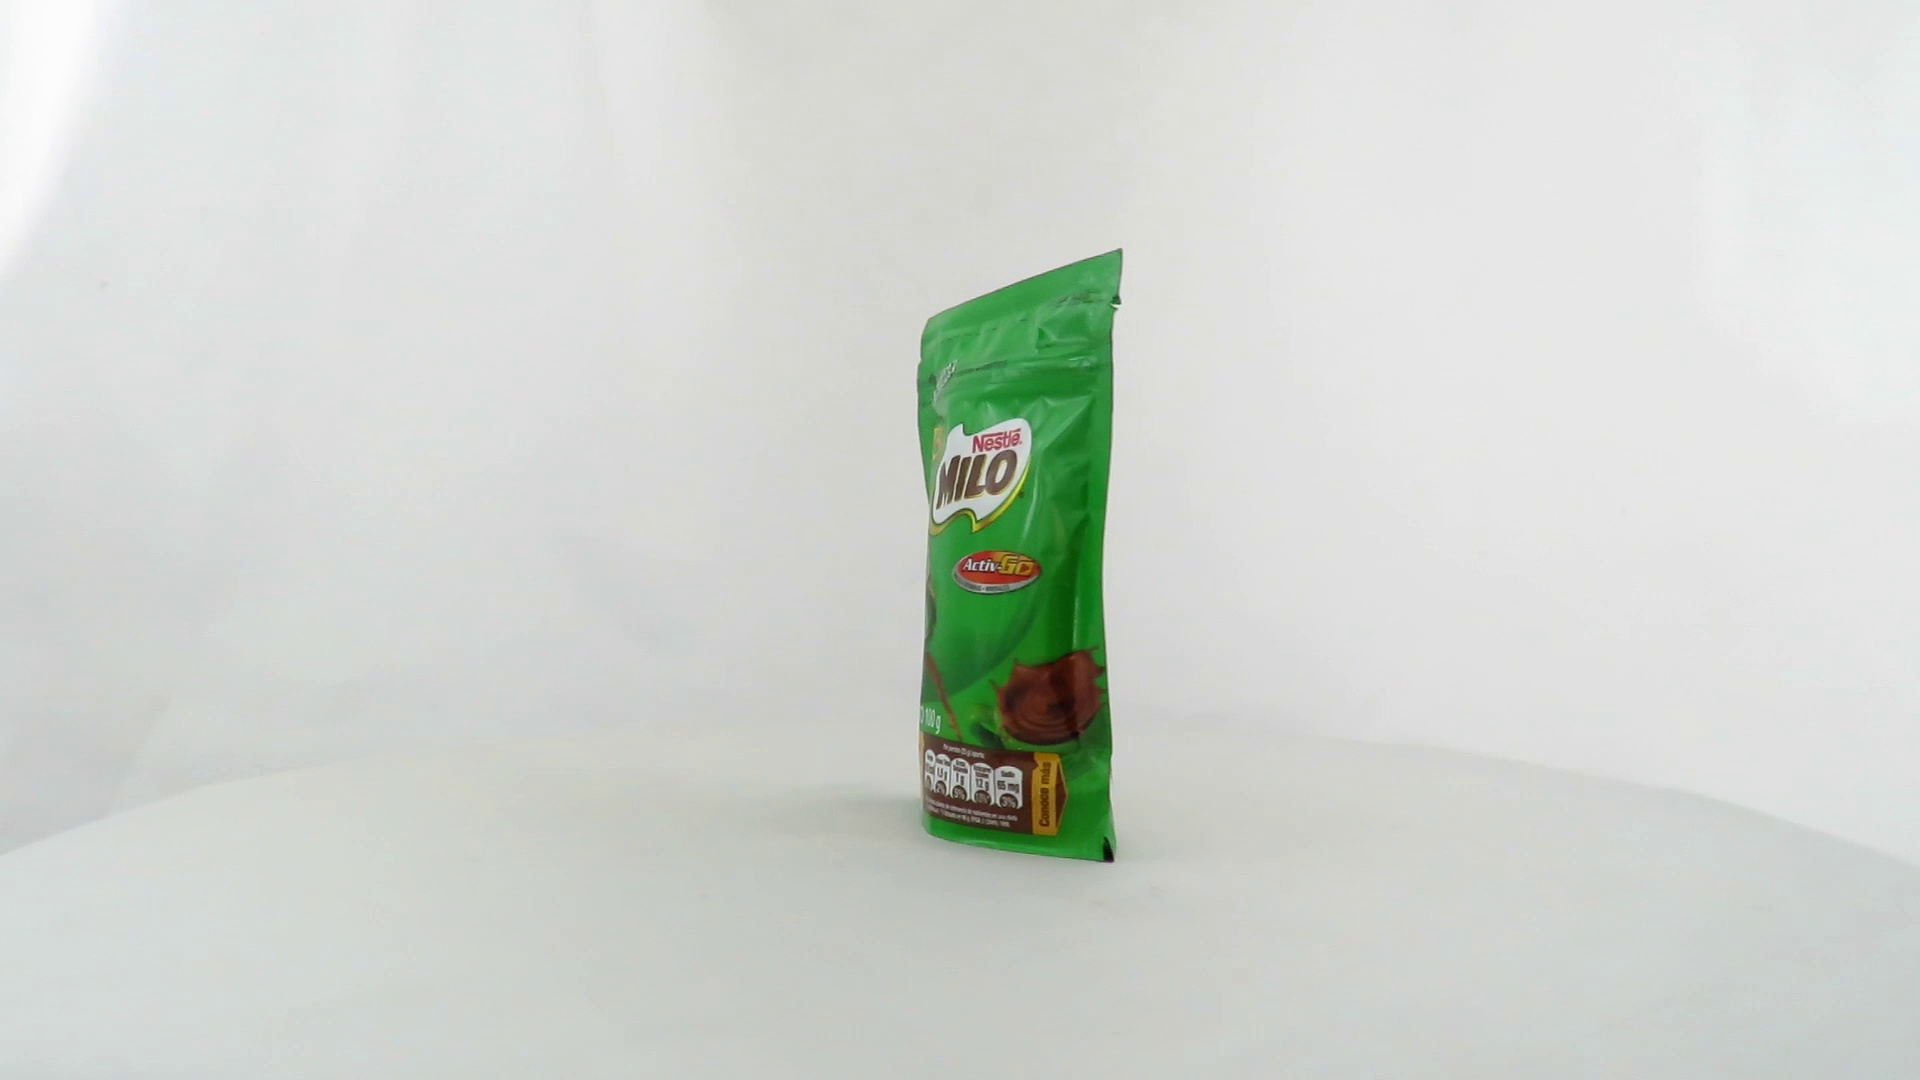COL0170203DYP10000: (911, 243, 1129, 869)
